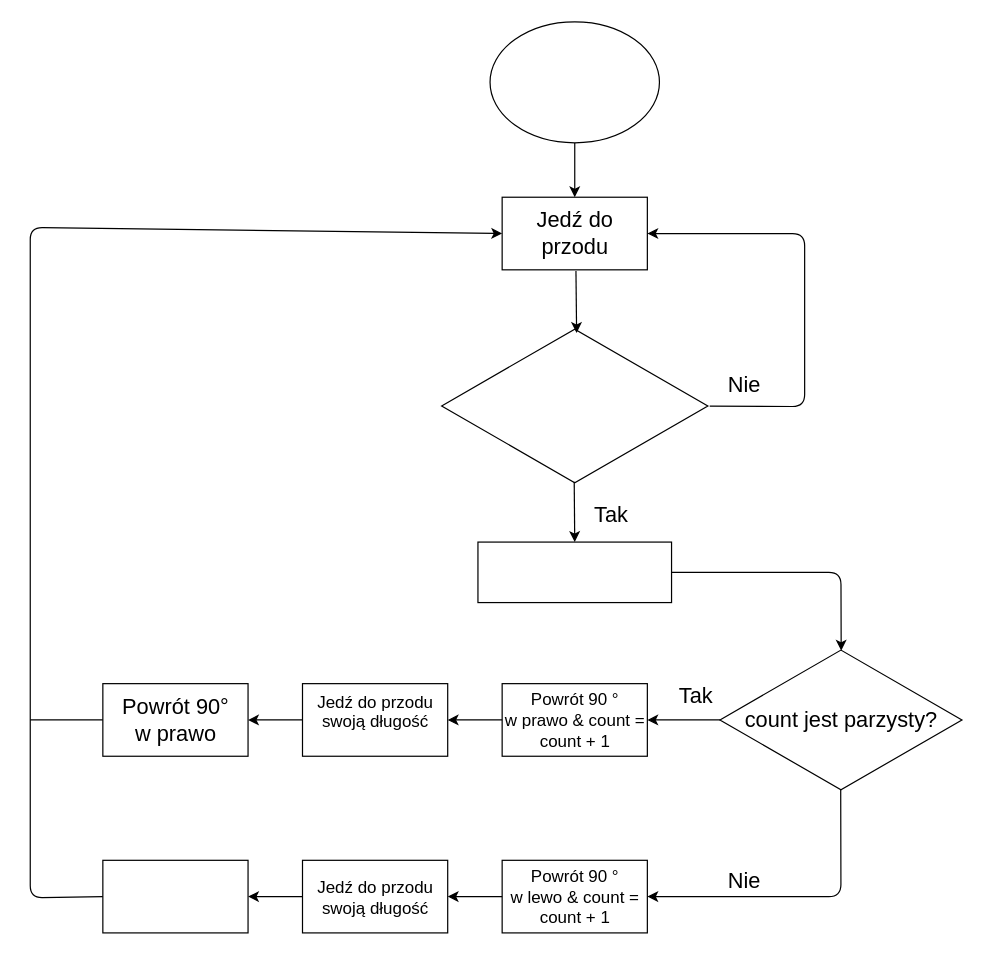
Some shapes in this 983 by 953 pixel diagram are drawn without their labels. Here are the shapes that lost their labels. From the top down, the centre of each, then its label:
At (574,82): "Start & count = 0".
At (574,405): "Czy wystąpiło zderzenie?".
At (574,572): "Jedź do tyłu o 1/3 swojej długośći".
At (175,896): "Powrót 90° w lewo".
